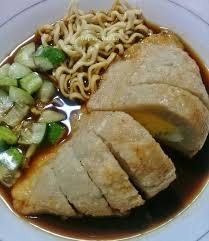Pempek kapal selam: (12, 28, 209, 220)
